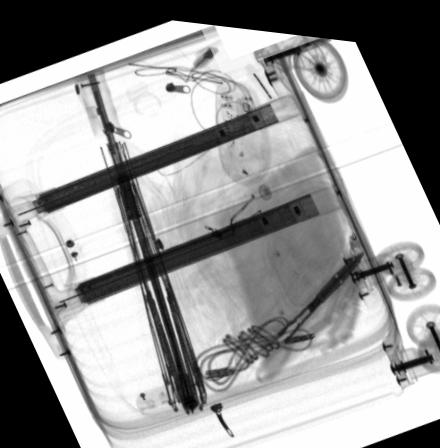Scissors: (229, 241, 363, 378)
